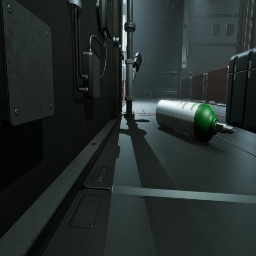0: (156, 100, 236, 143)
SafetySwitchPanel ,: (122, 15, 127, 54)
